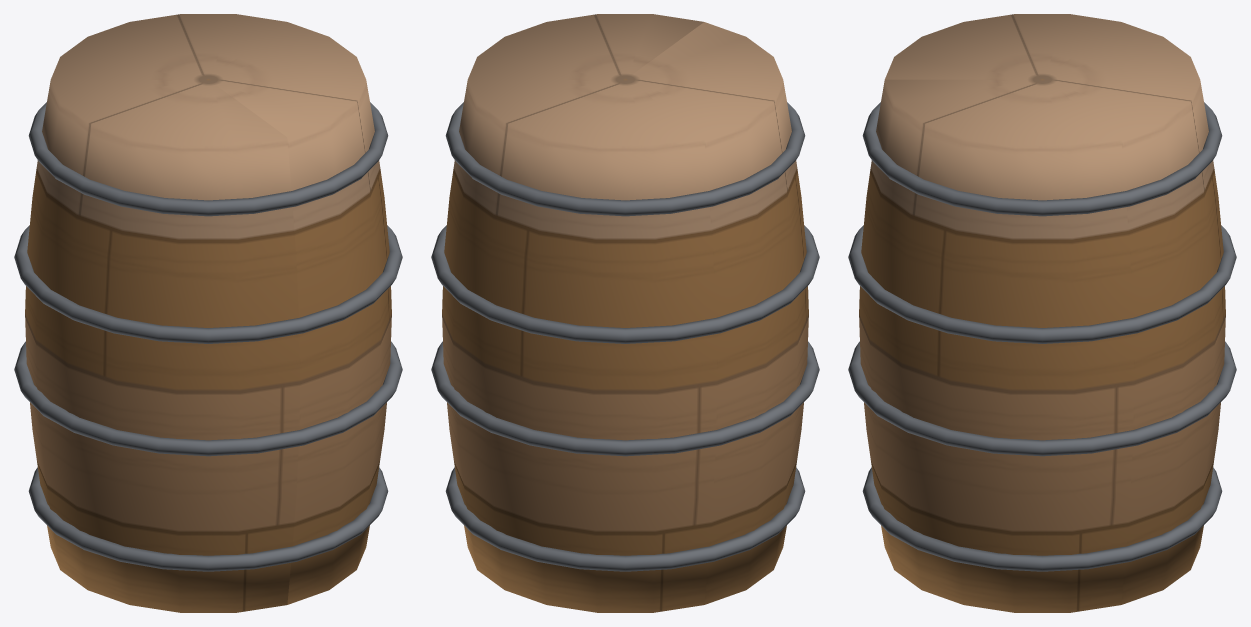
The model's file is prop_barrel_closed.glb.
3 renders of one model, left to right at view 1: azimuth 30°, elevation 25°; view 2: azimuth 150°, elevation 25°; view 3: azimuth 270°, elevation 25°, orthographic.
Parts seen in each view (by area): view 1: prop_barrel_wood, prop_barrel; view 2: prop_barrel_wood, prop_barrel; view 3: prop_barrel_wood, prop_barrel.
Boxes of the visible parts, box(x1,y1,x2,y2) form: prop_barrel_wood: box(25, 14, 391, 612); prop_barrel: box(14, 102, 402, 571); prop_barrel_wood: box(442, 14, 808, 612); prop_barrel: box(431, 102, 819, 571); prop_barrel_wood: box(859, 14, 1225, 612); prop_barrel: box(848, 102, 1236, 571).
Size of the model in its own units: 0.6777 by 0.9 by 0.6777.
2 materials, 1 textured.
